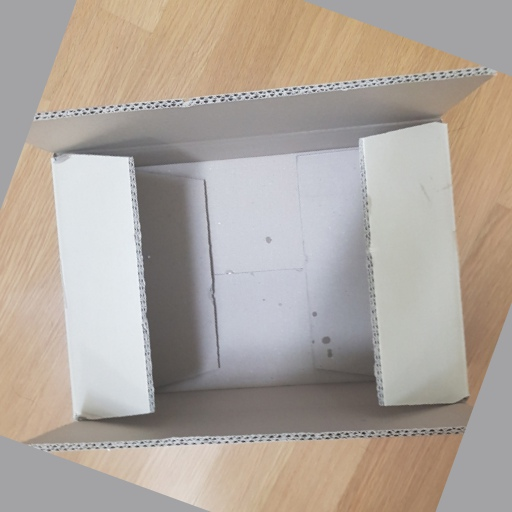Paper_0: (21, 64, 494, 454)
